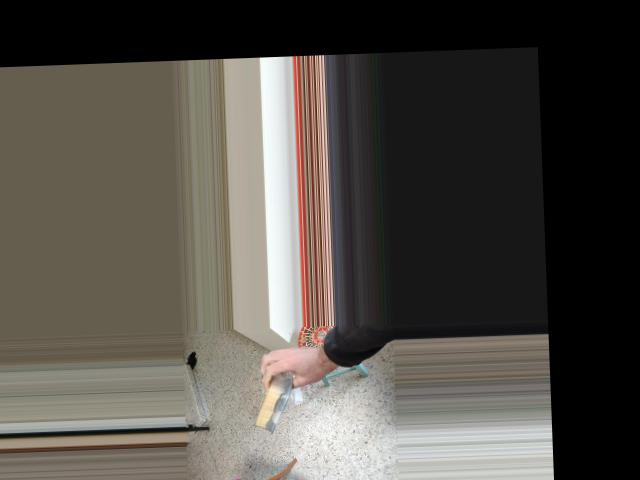cheese: (231, 340, 311, 438)
